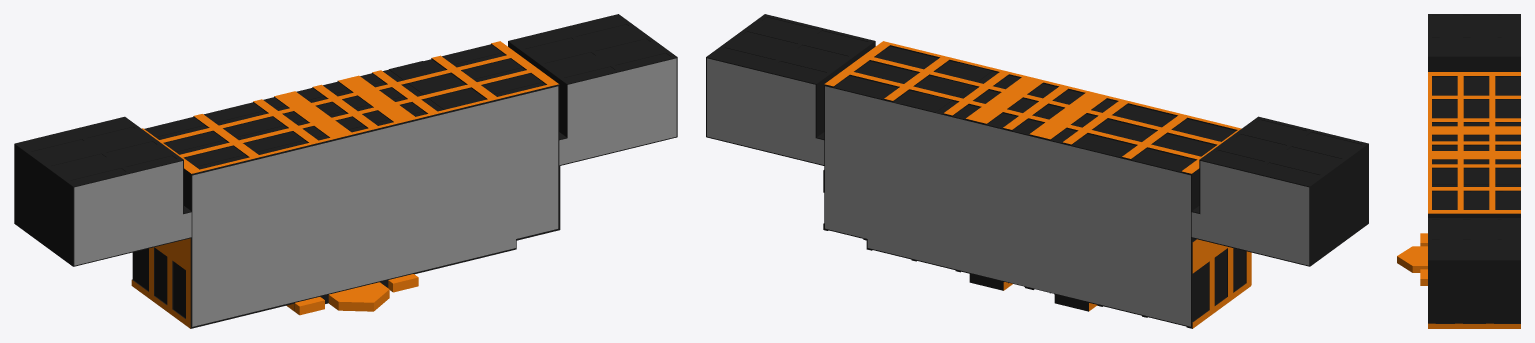
The model's file is Ing Sistemas.fbx.
The picture shows the model from 3 angles, left to right: view 1: azimuth 30°, elevation 25°; view 2: azimuth 150°, elevation 25°; view 3: azimuth 270°, elevation 25°; orthographic projection. The views are drawn at different scales.
Parts seen in each view (by area): view 1: Body2, Body1, Body4, Body3, Body6; view 2: Body9, Body1, Body8, Body10; view 3: Body1, Body6, Body7, Body5.
Boxes of the visible parts, x1,y1,x2,y2 form: Body2: (192, 86, 558, 326); Body1: (14, 14, 677, 328); Body4: (559, 58, 676, 165); Body3: (74, 161, 191, 265); Body6: (328, 282, 389, 311); Body9: (825, 86, 1190, 326); Body1: (706, 14, 1368, 328); Body8: (1191, 161, 1309, 265); Body10: (707, 58, 824, 164); Body1: (1428, 14, 1520, 328); Body6: (1397, 246, 1427, 272); Body7: (1420, 269, 1427, 285); Body5: (1420, 233, 1427, 246).
Bounding box in the file's own units: 71 × 20.1 × 16.
